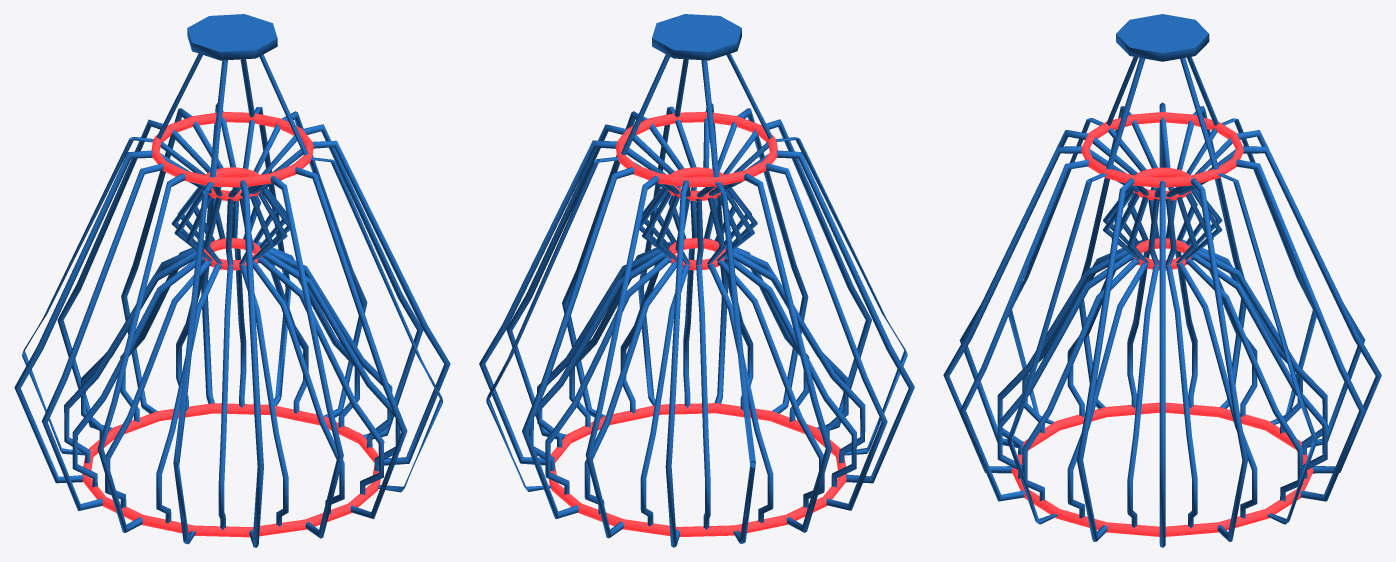
File: chandelier.cyberpunk.fbx
The picture shows the model from 3 angles, left to right: view 1: azimuth 30°, elevation 25°; view 2: azimuth 150°, elevation 25°; view 3: azimuth 270°, elevation 25°; orthographic projection.
Visible parts, largest first — view 1: Cylinder.004; view 2: Cylinder.004; view 3: Cylinder.004.
Part boxes in pixels (x1,y1,x2,y2): Cylinder.004: [14, 14, 450, 547]; Cylinder.004: [479, 14, 914, 547]; Cylinder.004: [943, 14, 1381, 547].
Size of the model in its own units: 32.68 by 36.18 by 32.64.
